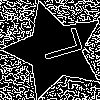L: (30, 25, 84, 66)
